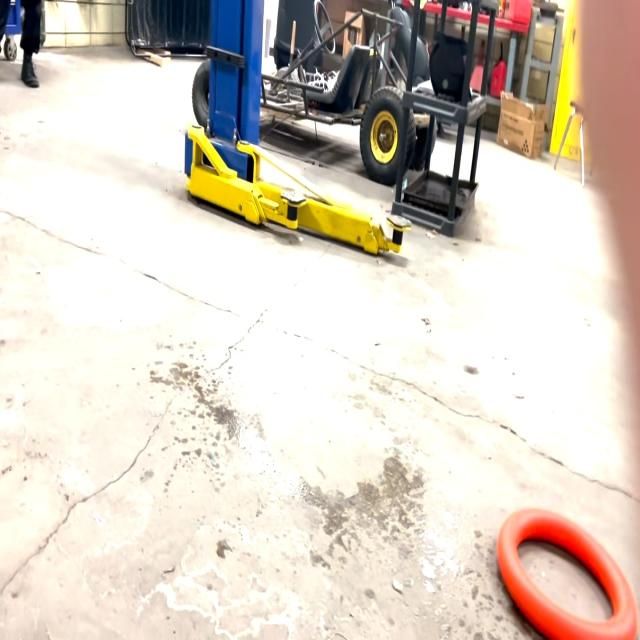note: (497, 506, 640, 640)
